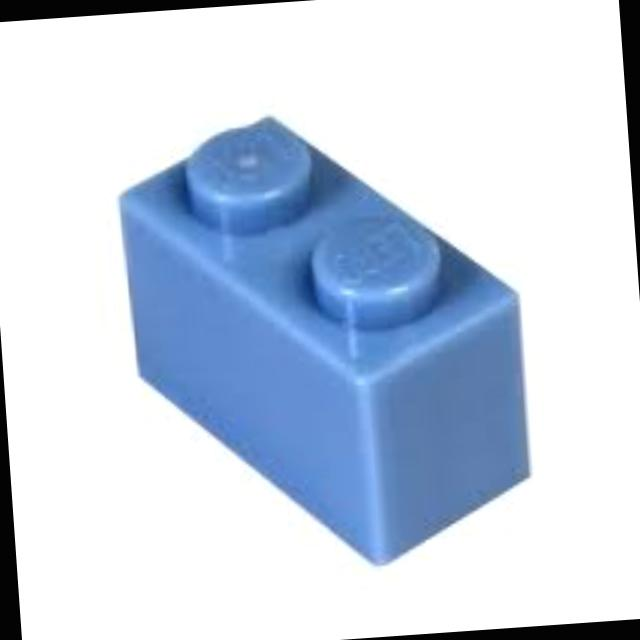1x2: (119, 117, 526, 560)
